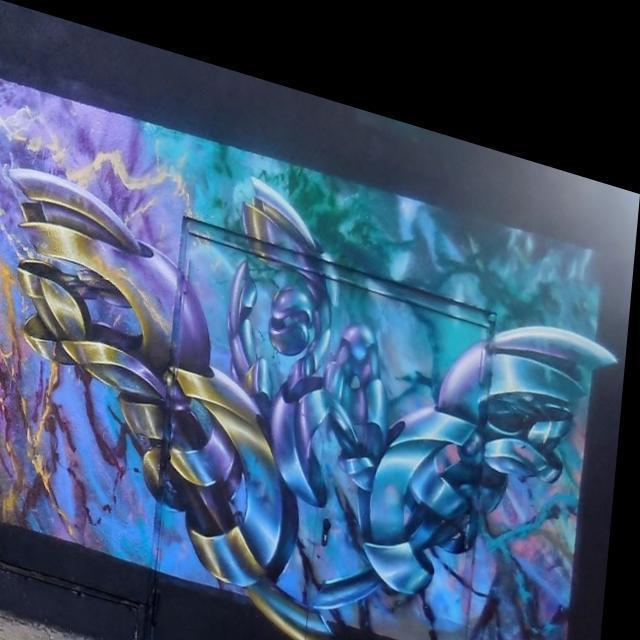nonspitting: (0, 72, 621, 640)
